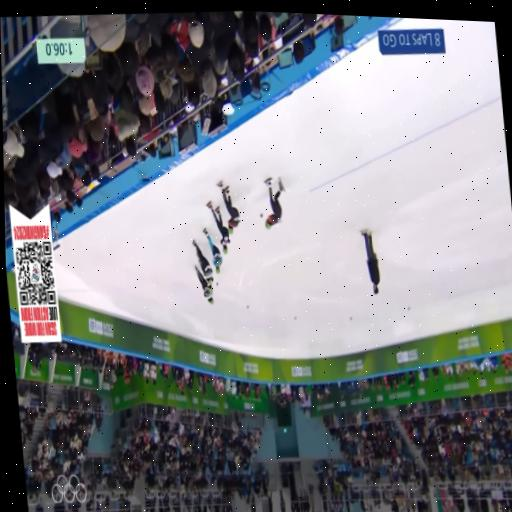Skater: (206, 201, 228, 253), (217, 182, 239, 233), (264, 178, 284, 228), (202, 228, 221, 272), (192, 240, 211, 283), (195, 266, 212, 303)
